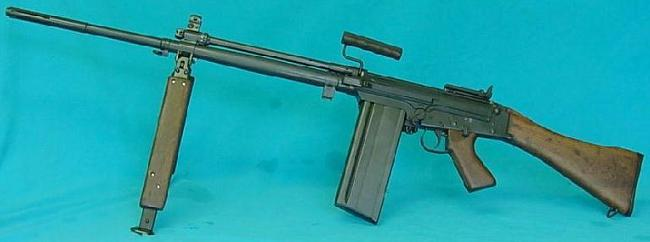rifle: (8, 3, 641, 226)
